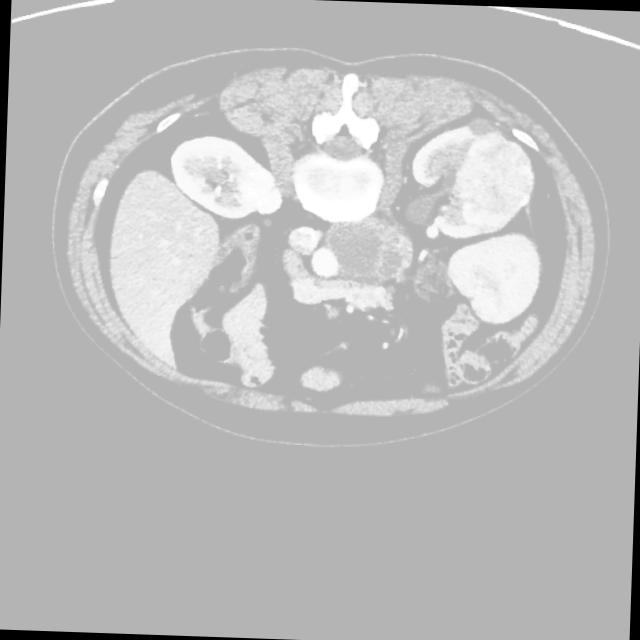TUMOR: (185, 207, 545, 400)
